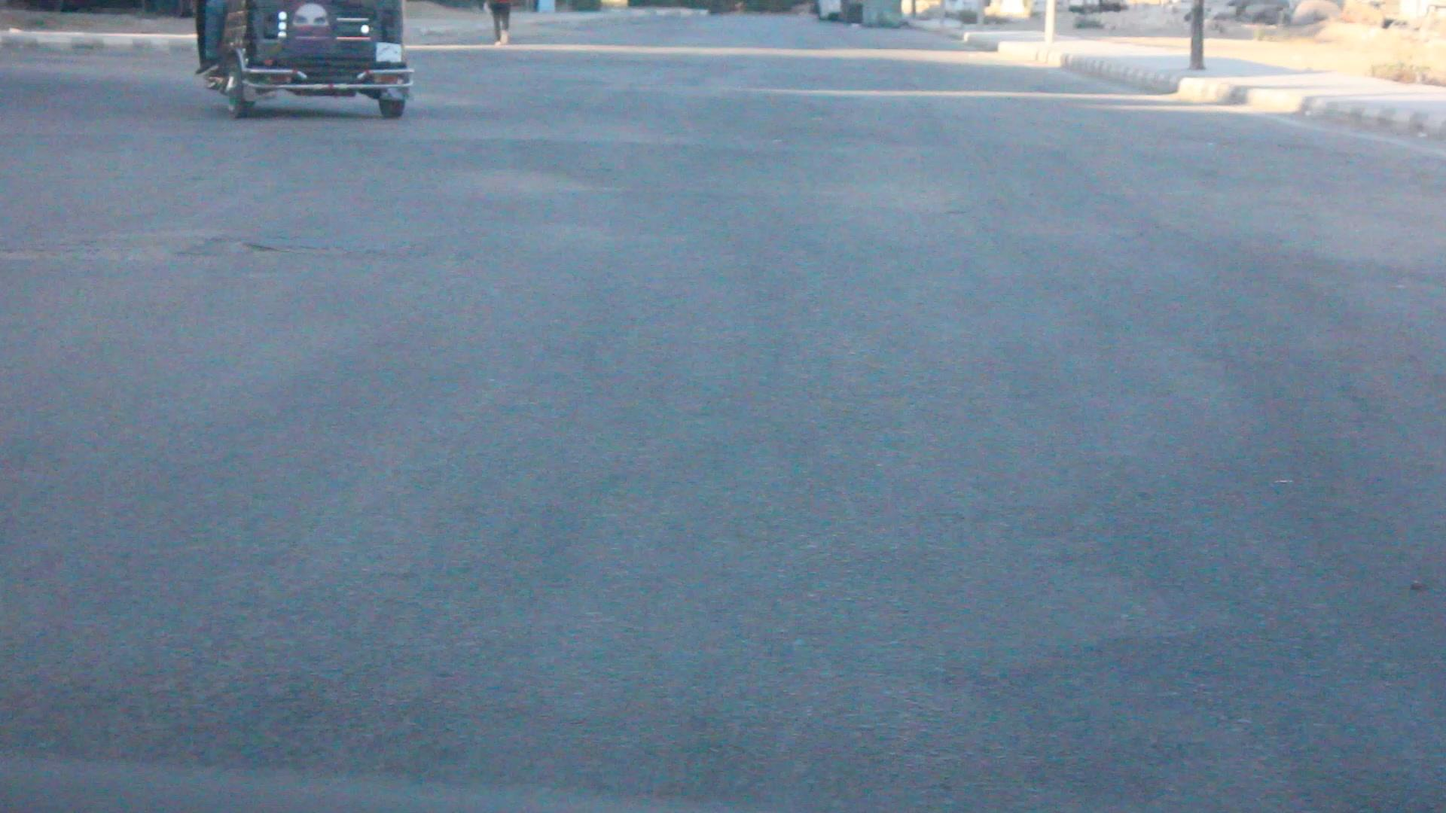Pothole: (30, 228, 333, 284)
